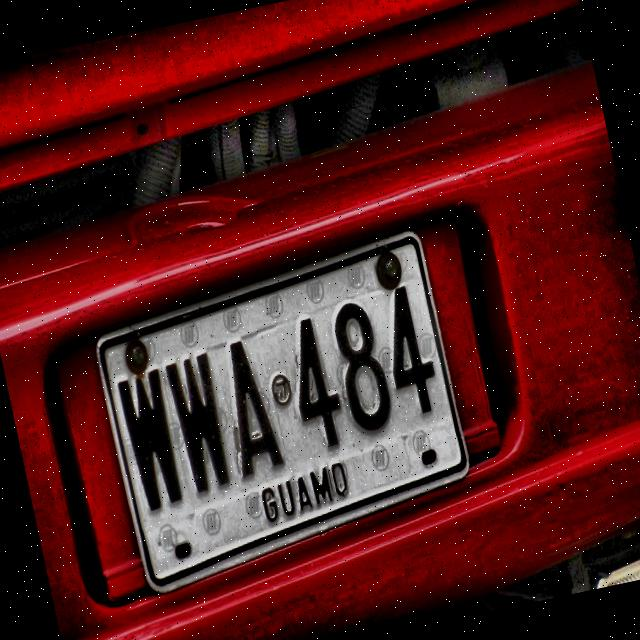plate: (99, 235, 467, 586)
